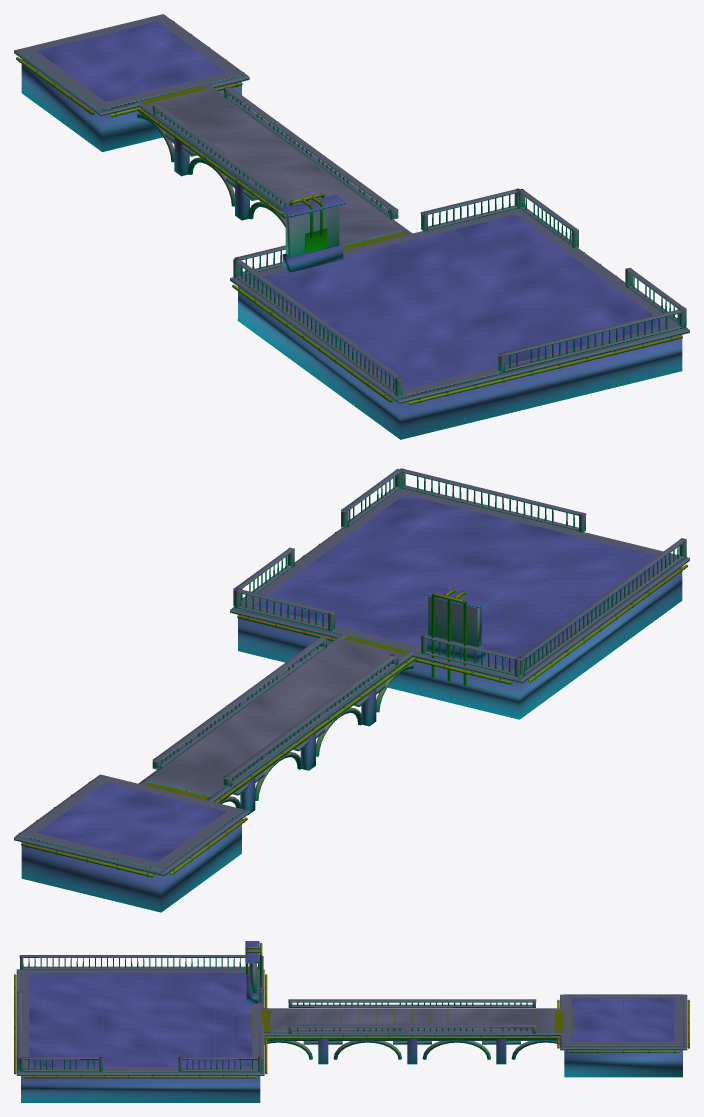
File: sunken_vey_court.glb
3 renders of one model, top to bottom at view 1: azimuth 30°, elevation 25°; view 2: azimuth 150°, elevation 25°; view 3: azimuth 270°, elevation 25°, orthographic. The views are drawn at different scales.
Parts seen in each view (by area): view 1: sunken_vey_court; view 2: sunken_vey_court; view 3: sunken_vey_court.
Part boxes in pixels (<box>): sunken_vey_court: <box>14,14,689,439</box>; sunken_vey_court: <box>14,468,689,912</box>; sunken_vey_court: <box>14,941,689,1102</box>.
Size of what is drawn, in the model's own units: 16.79 by 5.71 by 44.79.
